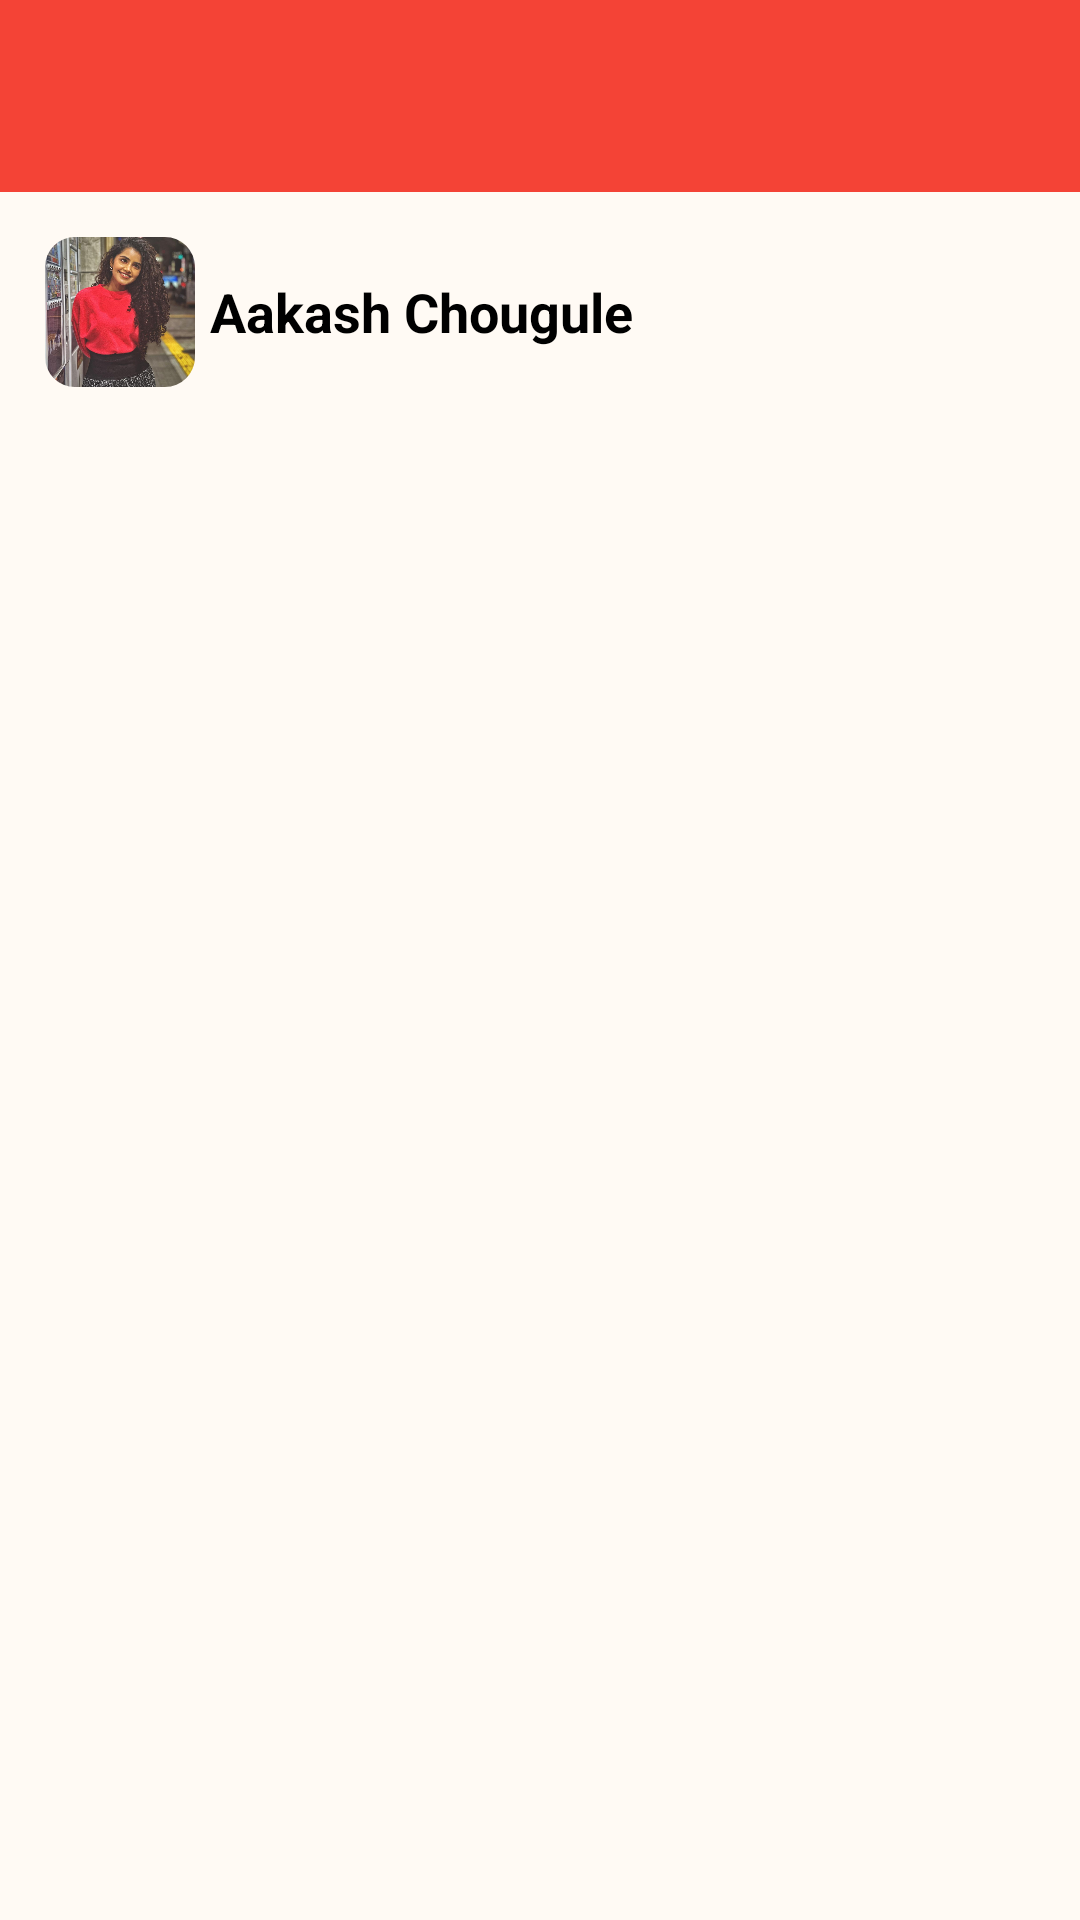

Point at icon controls on the screen. Image size 1080*1920, points as (x,y).
girl: (120,312)
